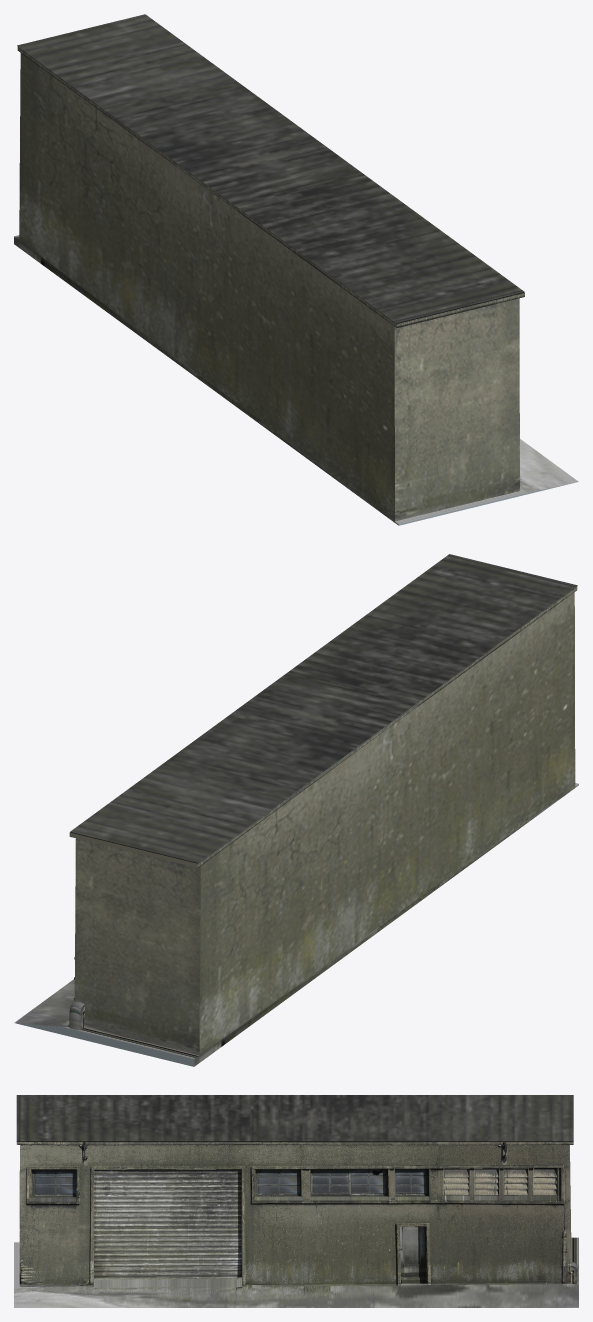
The model's file is building_4.glb.
3 renders of one model, top to bottom at view 1: azimuth 30°, elevation 25°; view 2: azimuth 150°, elevation 25°; view 3: azimuth 270°, elevation 25°, orthographic. The views are drawn at different scales.
Visible parts, largest first — view 1: building, roof; view 2: building, roof; view 3: building, roof, garage door, glass, shadow.
Boxes of the visible parts, x1,y1,x2,y2 form: building: (14, 46, 578, 525); roof: (17, 14, 524, 323); building: (14, 586, 578, 1066); roof: (70, 554, 577, 862); building: (14, 1141, 578, 1307); roof: (16, 1095, 573, 1141); garage door: (94, 1169, 241, 1280); glass: (34, 1169, 427, 1194); shadow: (76, 1168, 534, 1284).
Bounding box in the file's own units: 4.72 × 5.01 × 17.36.
Materials: 6 (6 with a texture image).
